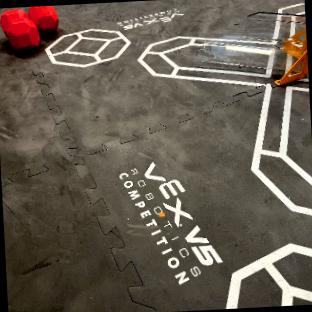V5_RED: (0, 5, 58, 50)
